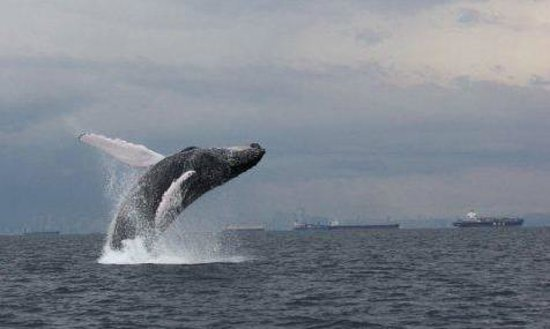humpback: (109, 141, 268, 255)
